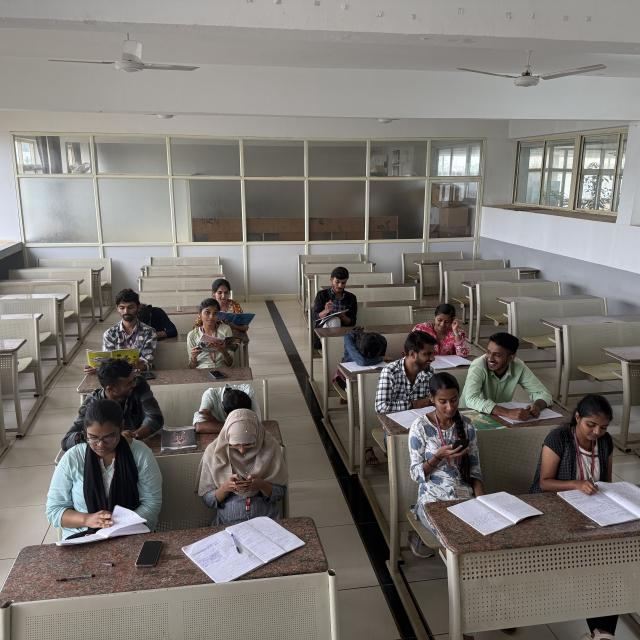Reading: (54, 400, 152, 540), (83, 291, 156, 368), (416, 305, 473, 370), (190, 297, 237, 358), (206, 276, 253, 332)
Sleeping: (186, 383, 268, 433), (338, 322, 396, 367)
Using Phone: (202, 412, 292, 515), (414, 374, 483, 482)
Writing: (546, 397, 624, 502), (316, 266, 358, 326)
